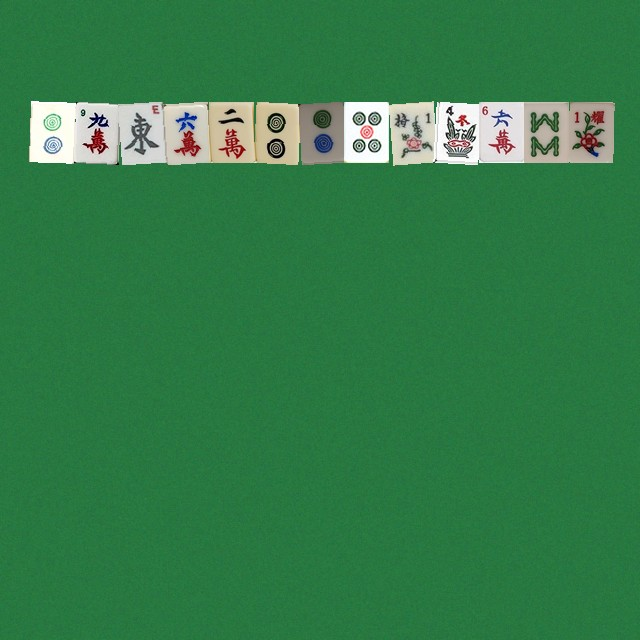tile: (28, 101, 73, 162), (73, 101, 118, 162), (118, 101, 163, 162), (163, 101, 208, 162), (208, 101, 253, 162), (253, 101, 298, 162), (298, 101, 343, 162), (343, 101, 388, 162), (388, 101, 433, 162), (433, 101, 478, 162), (478, 101, 523, 162), (523, 101, 568, 162), (568, 101, 613, 162)
